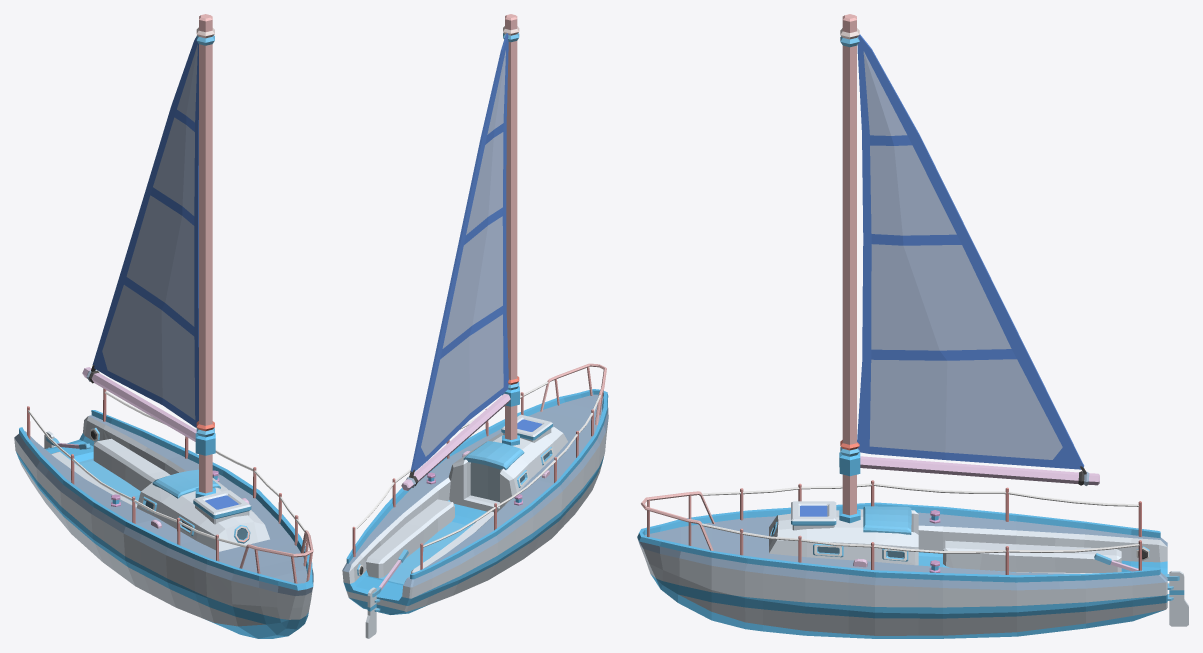
File: Boat_01.fbx
The picture shows the model from 3 angles, left to right: view 1: azimuth 30°, elevation 25°; view 2: azimuth 150°, elevation 25°; view 3: azimuth 270°, elevation 25°; orthographic projection. The views are drawn at different scales.
Parts seen in each view (by area): view 1: SM_Veh_Sailboat_01; view 2: SM_Veh_Sailboat_01; view 3: SM_Veh_Sailboat_01.
Part boxes in pixels (bbox=[...]): SM_Veh_Sailboat_01: bbox=[14, 14, 313, 638]; SM_Veh_Sailboat_01: bbox=[342, 14, 608, 638]; SM_Veh_Sailboat_01: bbox=[637, 14, 1188, 638].
Bounding box in the file's own units: 339 × 1367 × 1119.
